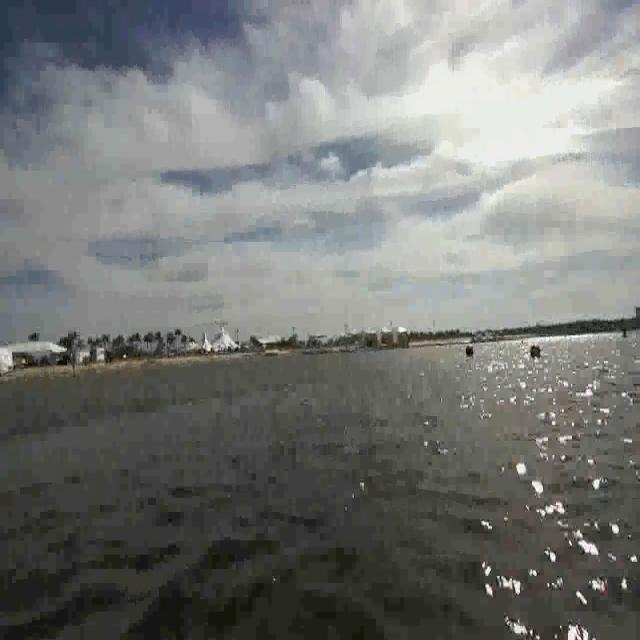green-buoy: (530, 340, 540, 362)
red-buoy: (464, 338, 474, 359)
